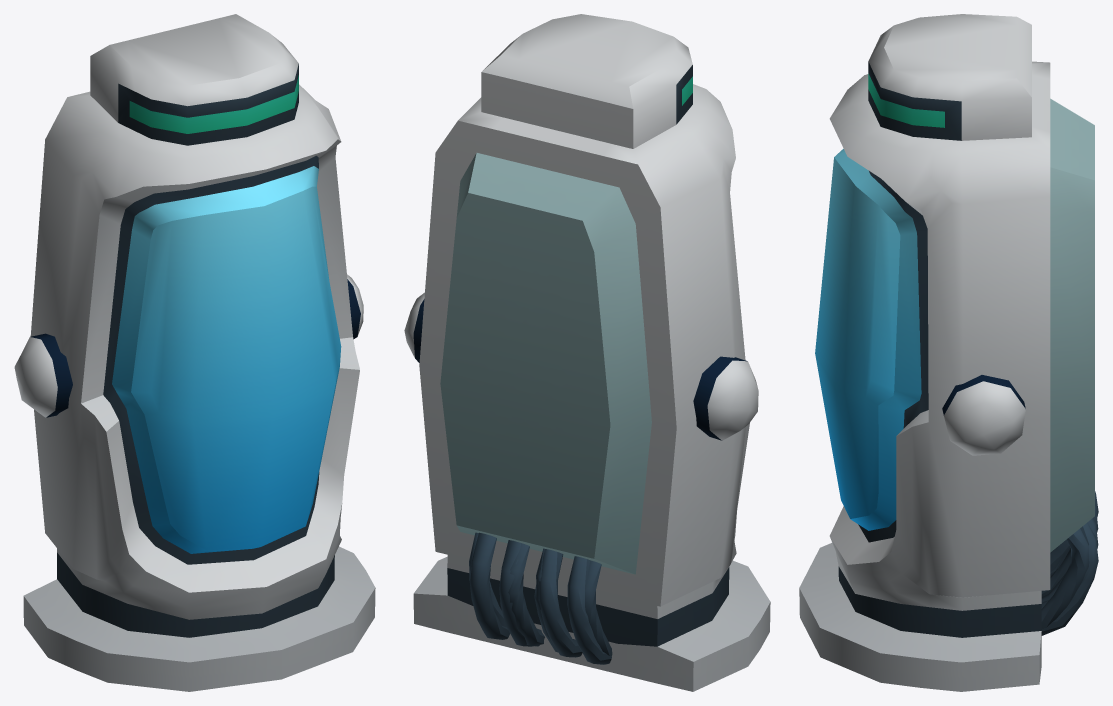
The model's file is Cryochamber.fbx.
3 renders of one model, left to right at view 1: azimuth 30°, elevation 25°; view 2: azimuth 150°, elevation 25°; view 3: azimuth 270°, elevation 25°, orthographic.
Visible parts, largest first — view 1: CryoChamber, CryochamberWindow; view 2: CryoChamber; view 3: CryoChamber, CryochamberWindow.
Part boxes in pixels (left/top/right/bottom): CryoChamber: left=14, top=14, right=375, bottom=691; CryochamberWindow: left=112, top=166, right=341, bottom=553; CryoChamber: left=404, top=14, right=770, bottom=691; CryoChamber: left=799, top=14, right=1098, bottom=691; CryochamberWindow: left=815, top=149, right=921, bottom=530.
Size of the model in its own units: 743 by 1221 by 581.
